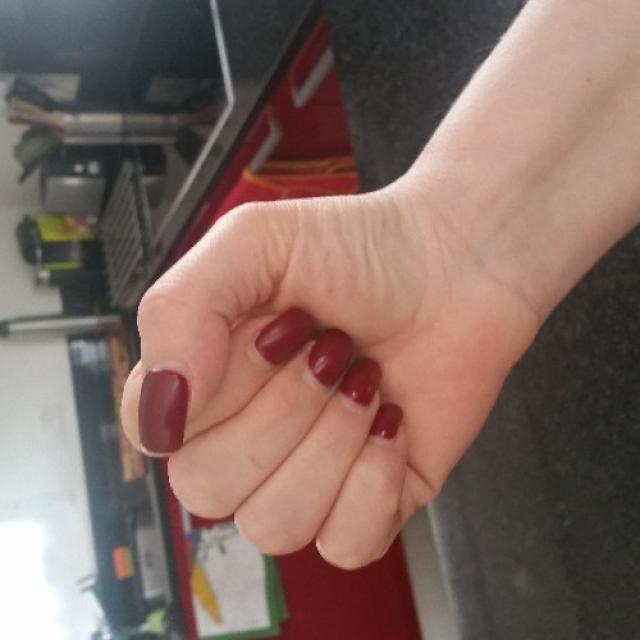fist: (109, 182, 543, 580)
